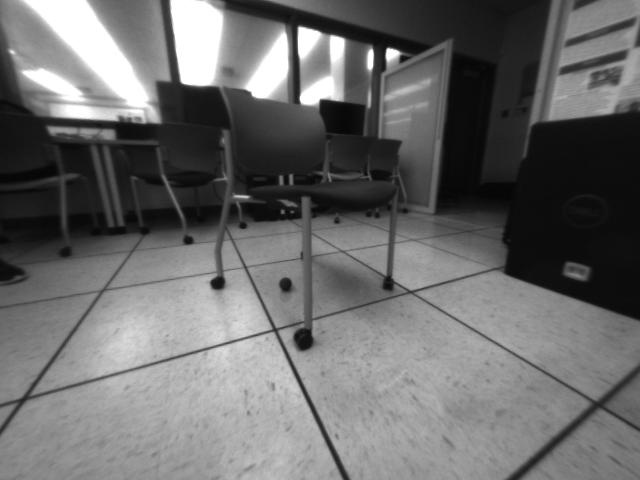dogtoy: (272, 268, 302, 298)
